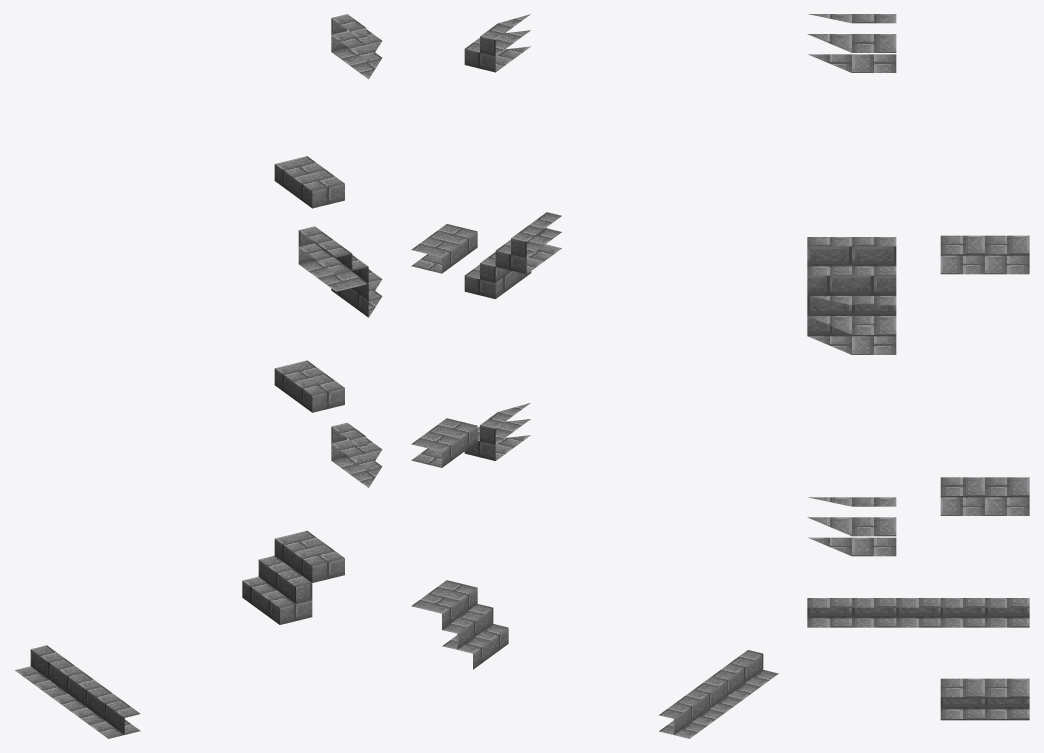
The model's file is Stone_Brick_Stairs_Chunk_16_9.fbx.
3 views of the same model, side by side, from view 1: azimuth 30°, elevation 25°; view 2: azimuth 150°, elevation 25°; view 3: azimuth 270°, elevation 25° (orthographic). The views are drawn at different scales.
Parts seen in each view (by area): view 1: Stone_Brick_Stairs_Chunk_16_9; view 2: Stone_Brick_Stairs_Chunk_16_9; view 3: Stone_Brick_Stairs_Chunk_16_9.
Part boxes in pixels (box(x1,y1,x2,y2)): Stone_Brick_Stairs_Chunk_16_9: box(15, 14, 382, 738); Stone_Brick_Stairs_Chunk_16_9: box(411, 14, 778, 738); Stone_Brick_Stairs_Chunk_16_9: box(807, 14, 1029, 720).
Size of the model in its own units: 900 by 1850 by 500.
Materials: 1 (1 with a texture image).
